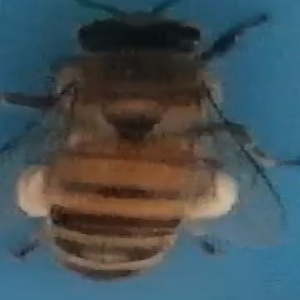bee: (5, 3, 300, 283)
